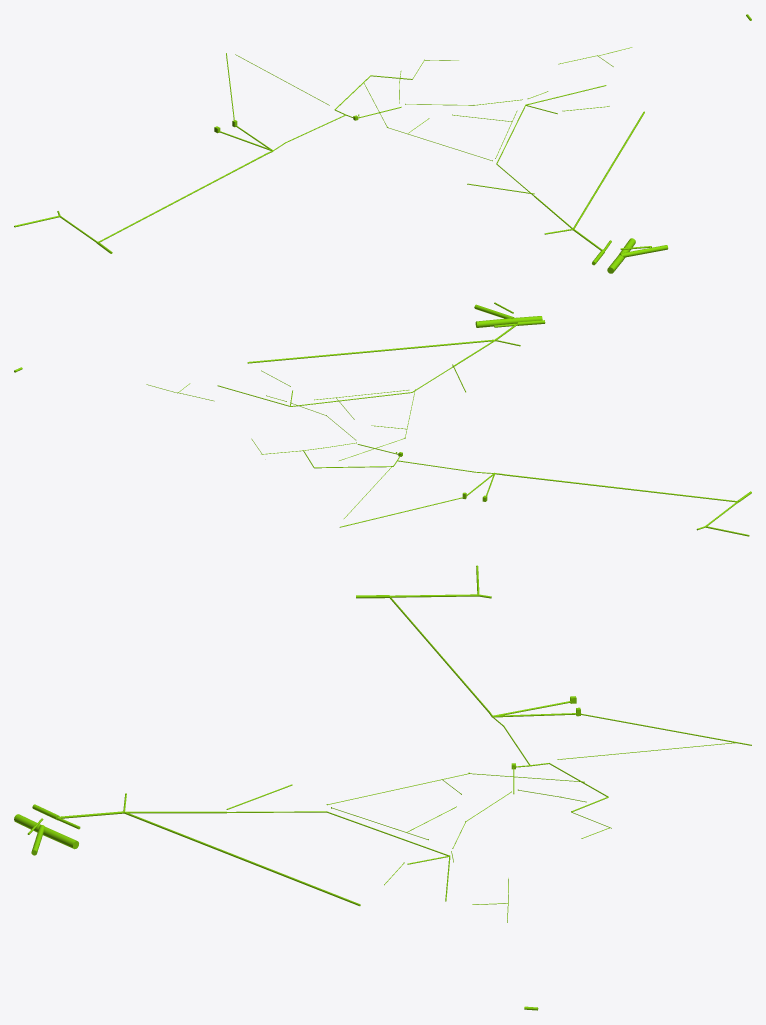
The model's file is ddff5483-a142-4415-9279-452bf2bf1f78.glb.
The picture shows the model from 3 angles, top to bottom: view 1: azimuth 30°, elevation 25°; view 2: azimuth 150°, elevation 25°; view 3: azimuth 270°, elevation 25°; orthographic projection. The views are drawn at different scales.
Visible parts, largest first — view 1: no part large enough to name; view 2: 606, 596; view 3: no part large enough to name.
Part boxes in pixels (left/top/right/bottom): 606: left=248, top=339, right=494, bottom=363; 596: left=504, top=474, right=737, bottom=502.
Size of the model in its own units: 203 by 7.09 by 139.
